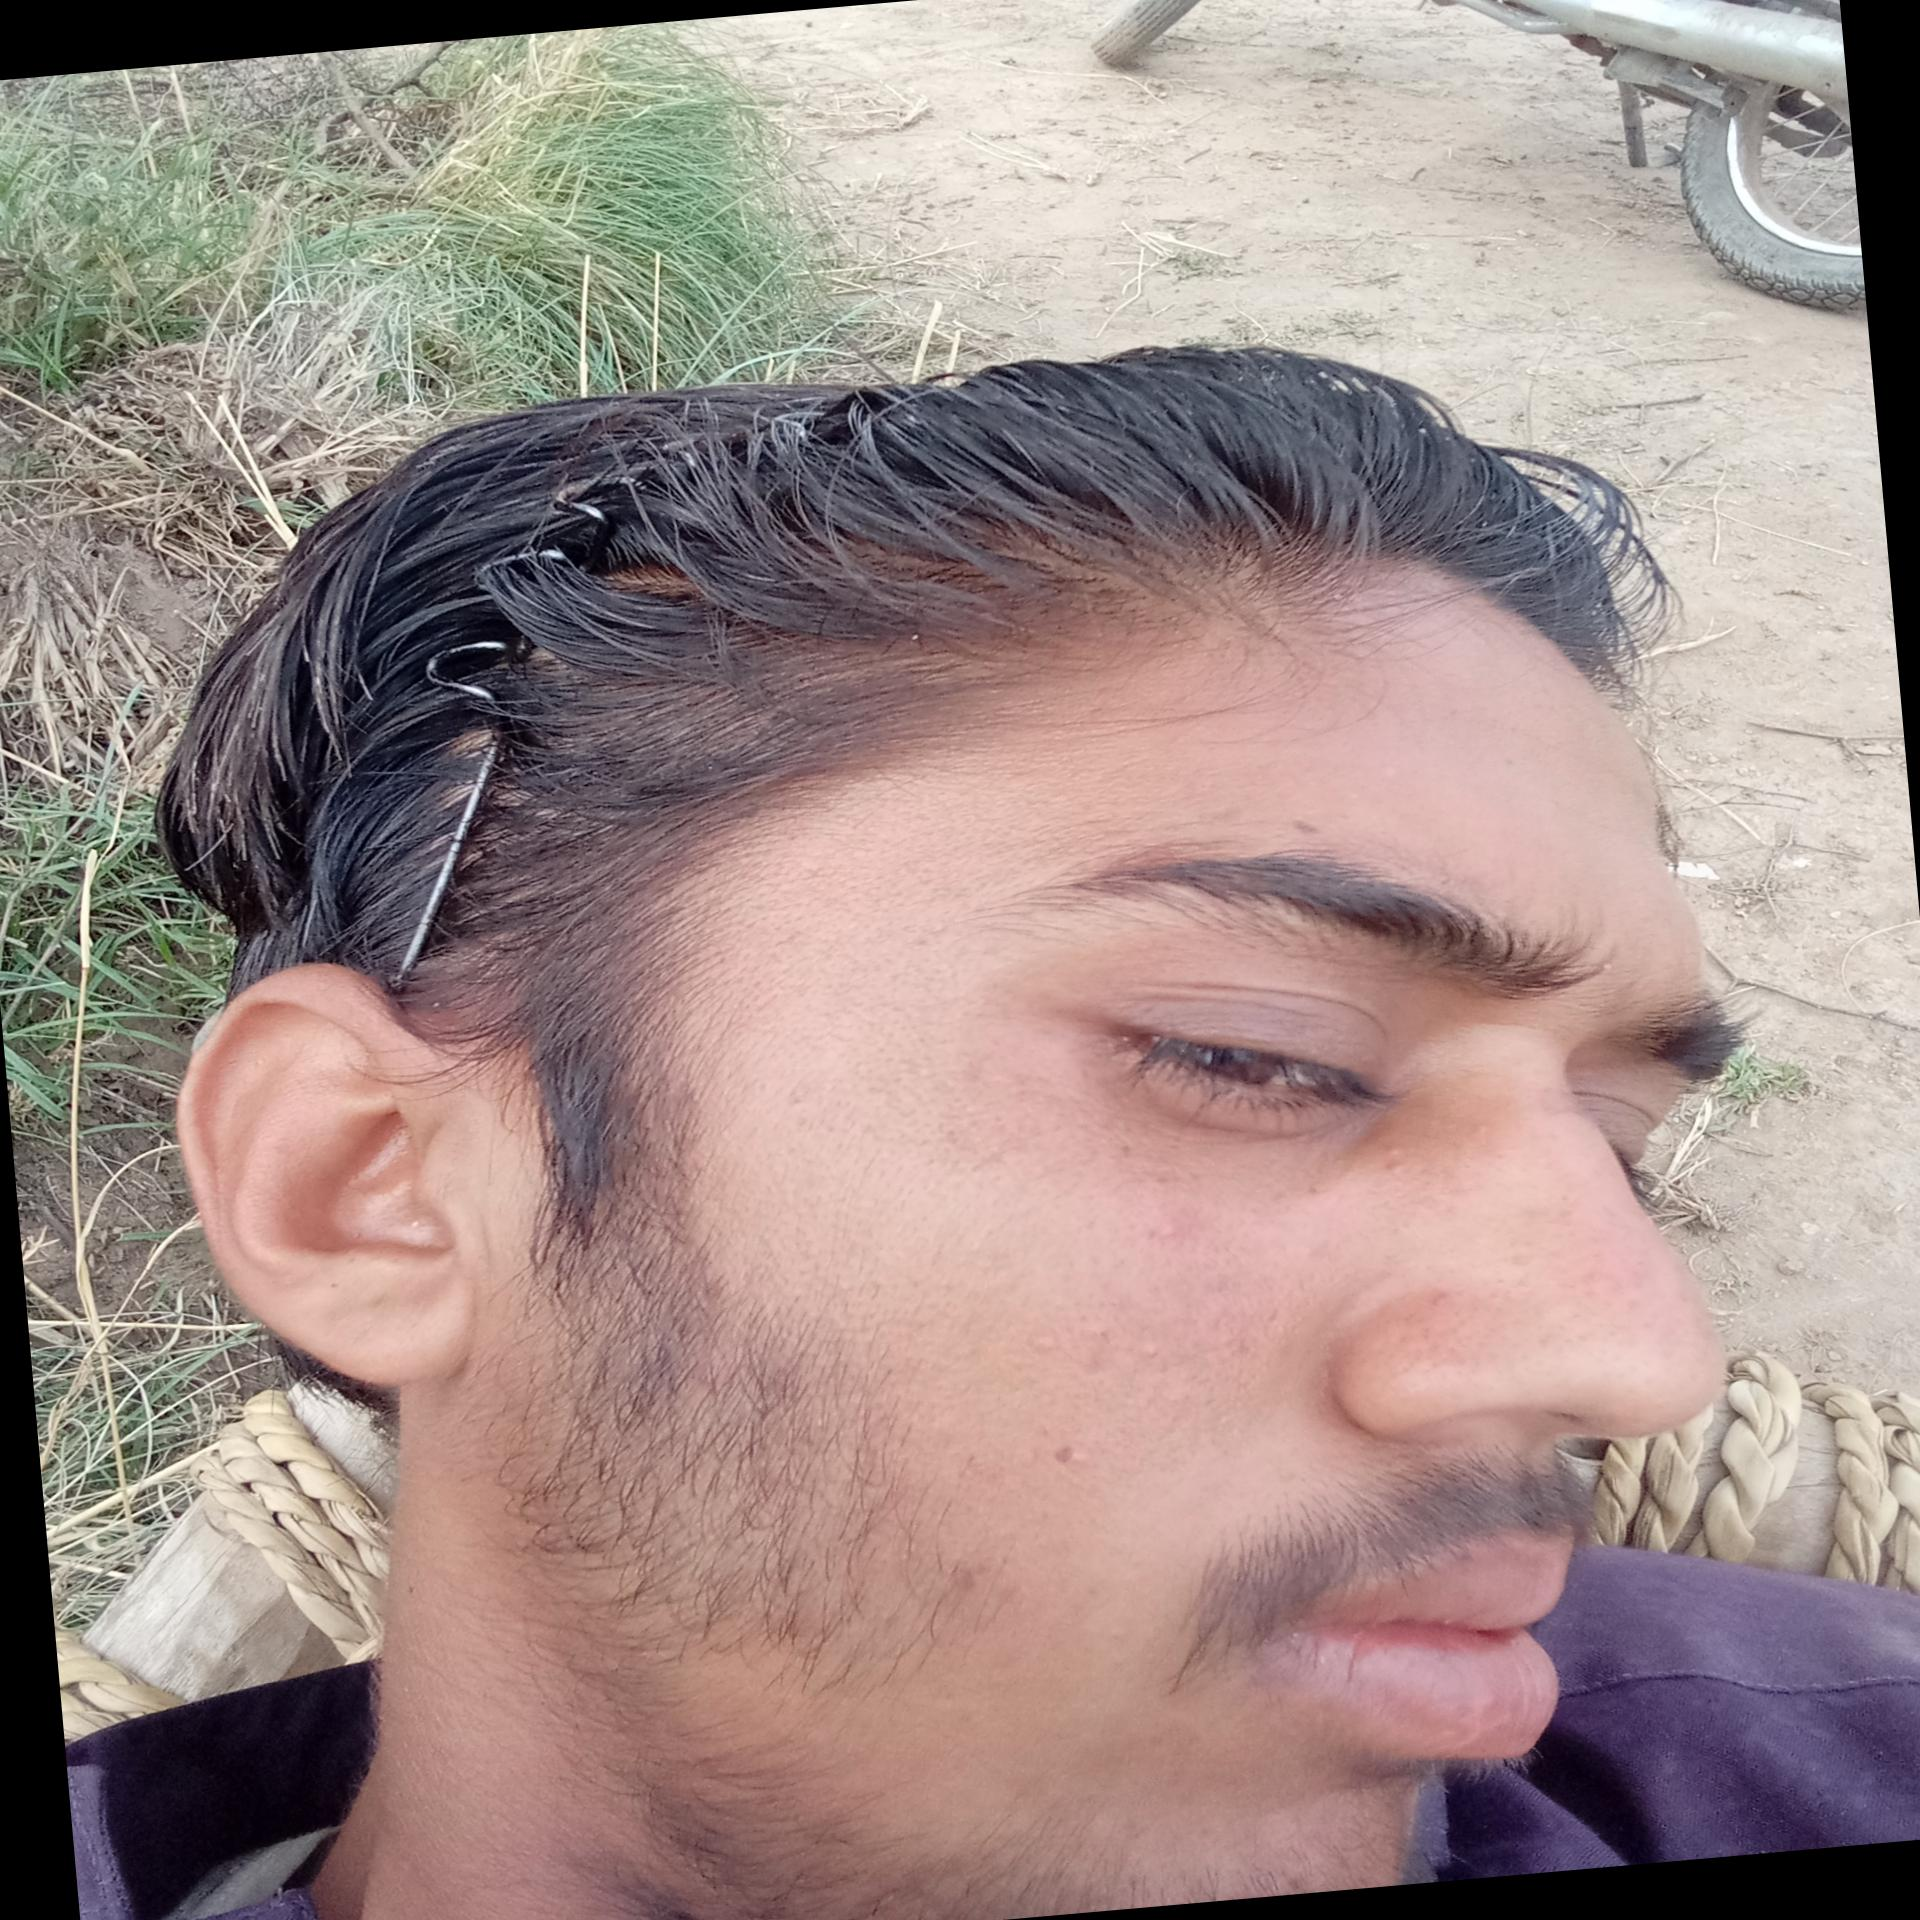Acne: (986, 1308, 1078, 1361), (1050, 1429, 1101, 1479), (1124, 1333, 1180, 1377), (1368, 1139, 1419, 1187), (1152, 1224, 1187, 1250)
Blackhead: (1405, 1273, 1667, 1394)
